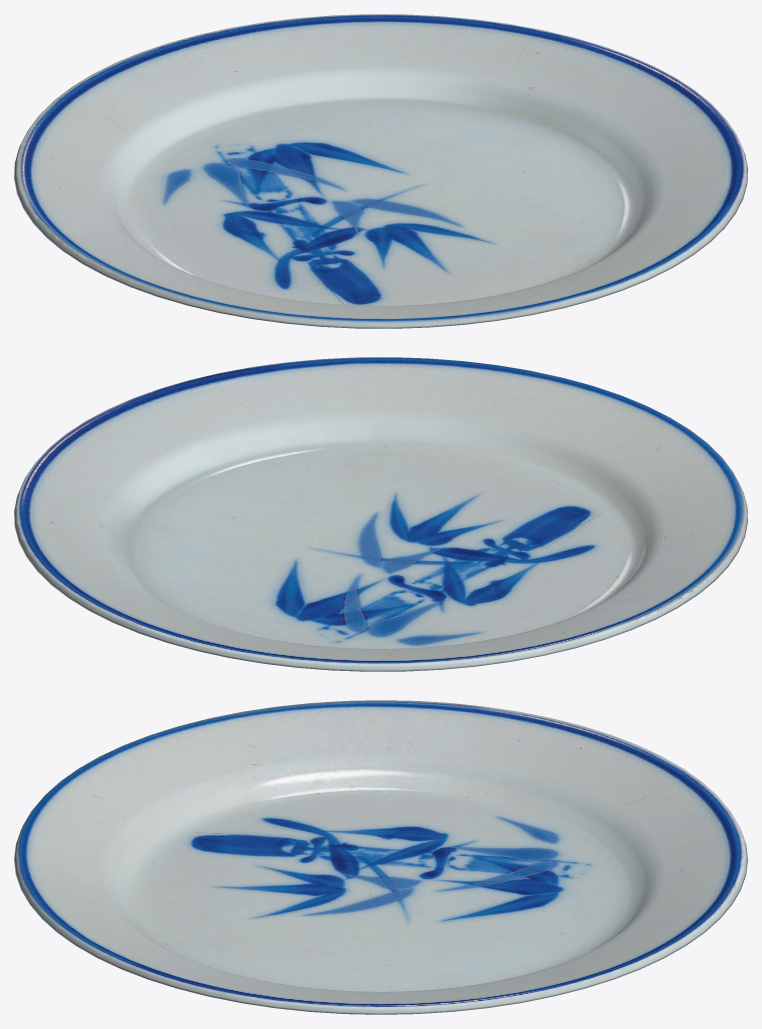
File: SM_Unhyun_WhitePorcelainDish_F.fbx
3 renders of one model, top to bottom at view 1: azimuth 30°, elevation 25°; view 2: azimuth 150°, elevation 25°; view 3: azimuth 270°, elevation 25°, orthographic.
Visible parts, largest first — view 1: SM_WhitePorcelainDish194; view 2: SM_WhitePorcelainDish194; view 3: SM_WhitePorcelainDish194.
Boxes of the visible parts, bbox=[...] form: SM_WhitePorcelainDish194: bbox=[14, 14, 747, 328]; SM_WhitePorcelainDish194: bbox=[14, 357, 747, 671]; SM_WhitePorcelainDish194: bbox=[14, 700, 747, 1014].
Bounding box in the file's own units: 153 × 13.5 × 153.
